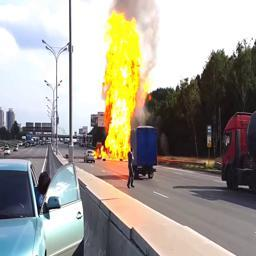fire: (98, 11, 140, 161)
